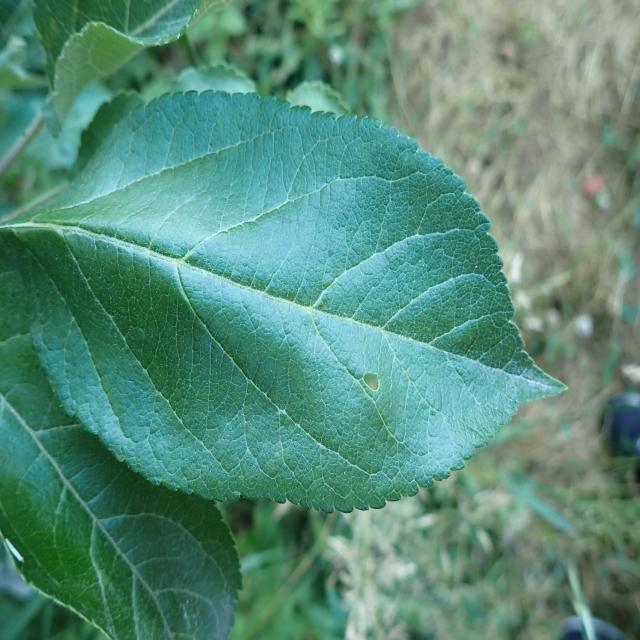healthy: (1, 89, 570, 515), (0, 285, 243, 640), (30, 0, 209, 136)
